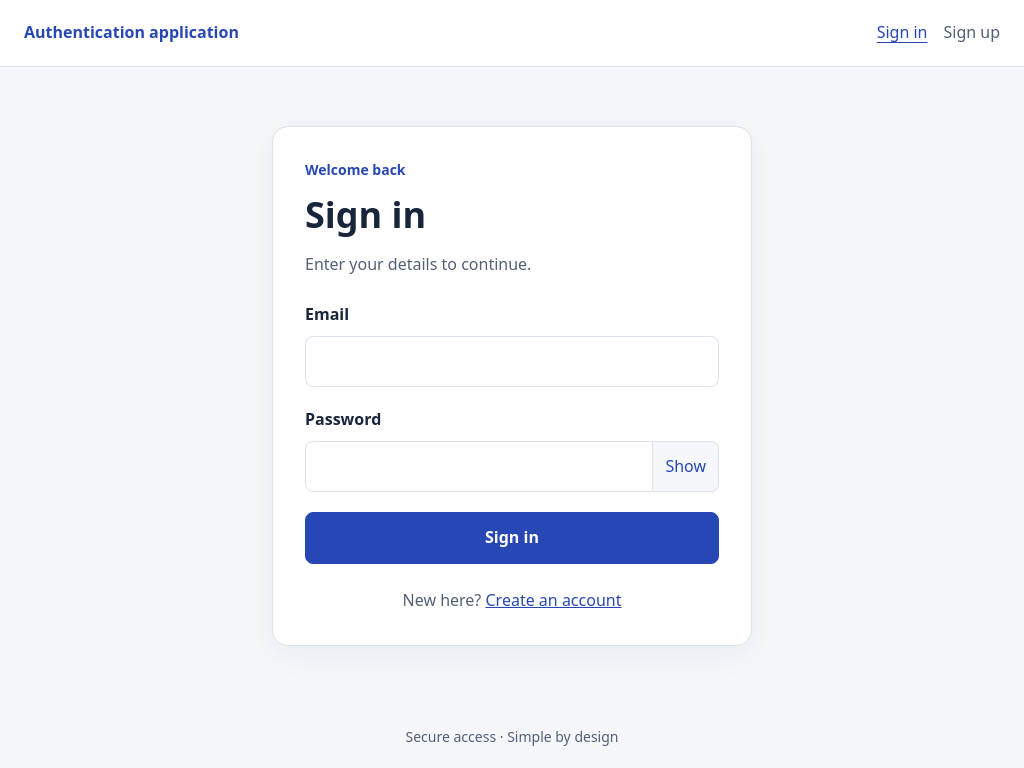
Test: shows invalid credentials and server field errors without automatic retry
expect the heading "Sign in" is shown: met, box [305,190,426,239]
In the field labelled "Email": (512, 361) [305,336,719,387], type "Person@EXAMPLE.COM"
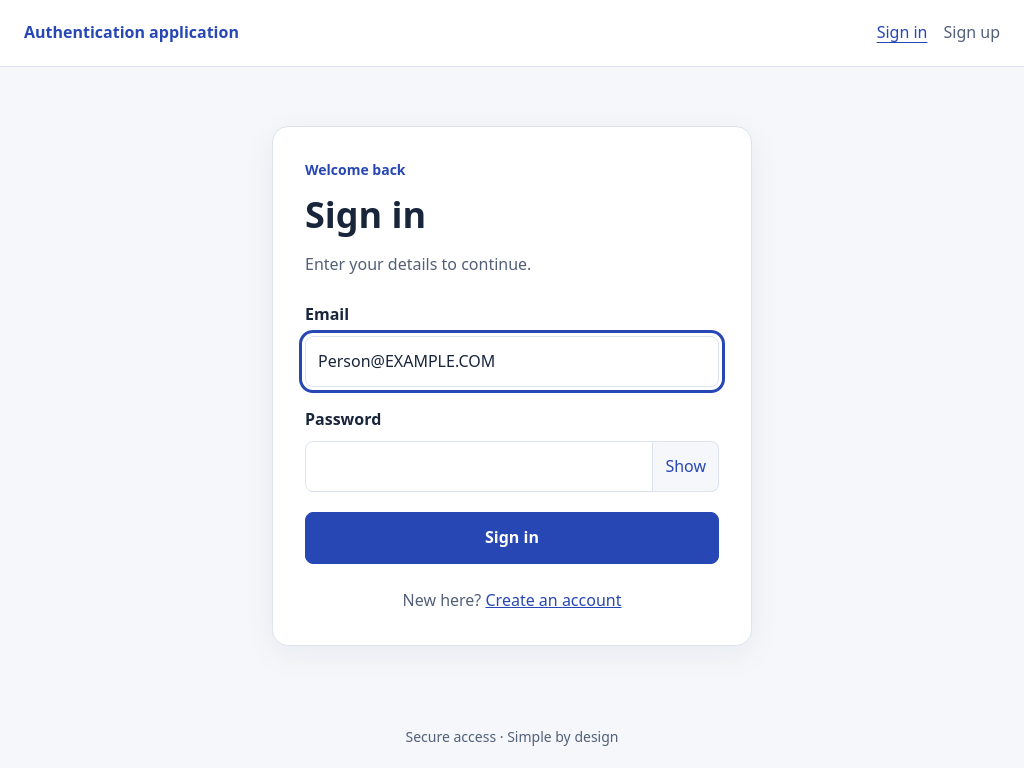
In the password field labelled "Password": (479, 466) [305,441,653,492], type " Password42! "
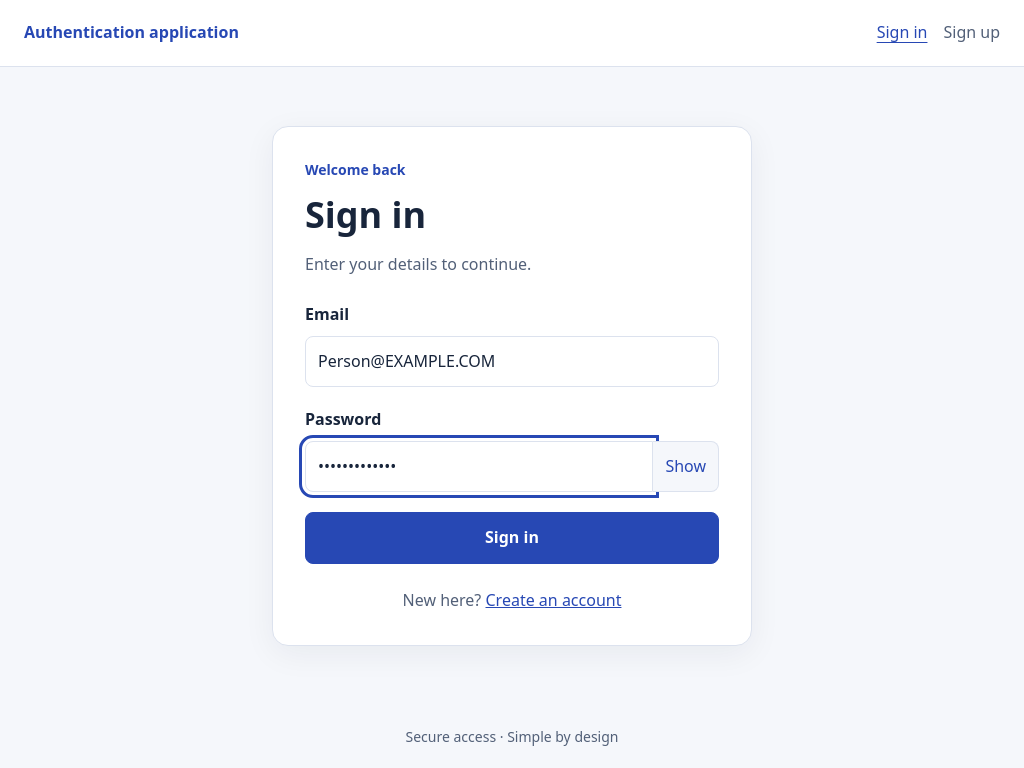
Click the button "Sign in": (512, 538) [305,512,719,564]
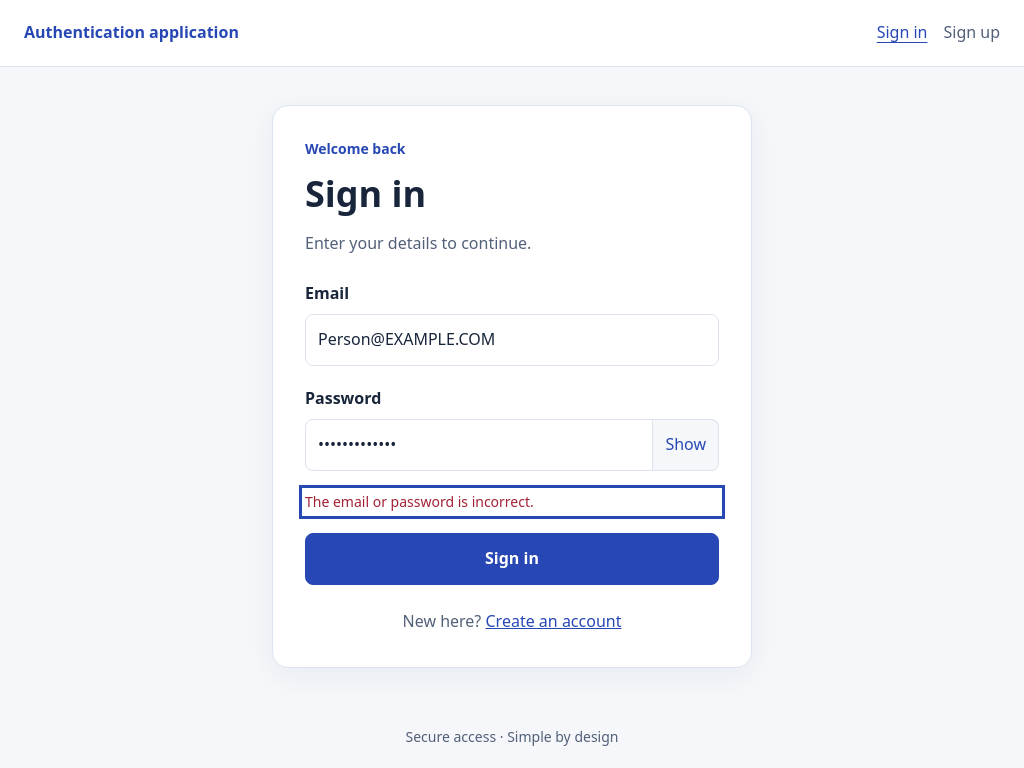
expect the message reads "The email or password is incorrect.": met, box [305,492,534,511]
